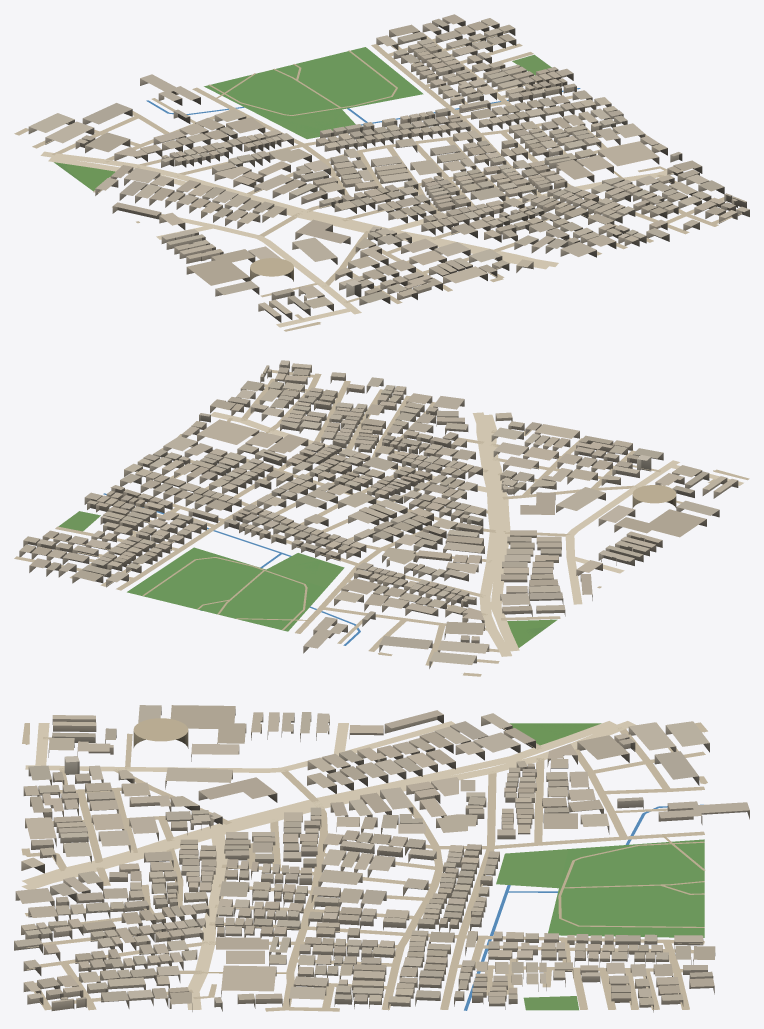
3 views of the same model, one above another, from view 1: azimuth 30°, elevation 25°; view 2: azimuth 150°, elevation 25°; view 3: azimuth 270°, elevation 25° (orthographic). The views are drawn at different scales.
Parts seen in each view (by area): view 1: building, ground; view 2: building, ground; view 3: building, ground, water.
Boxes of the visible parts, x1=… form: building: x1=28, y1=14, x2=749, y2=322; ground: x1=14, y1=25, x2=741, y2=331; building: x1=19, y1=360, x2=738, y2=668; ground: x1=14, y1=370, x2=749, y2=676; building: x1=14, y1=705, x2=749, y2=1012; ground: x1=21, y1=721, x2=707, y2=1011; water: x1=464, y1=804, x2=703, y2=1010.
Size of the model in its own units: 523 by 16 by 542.
